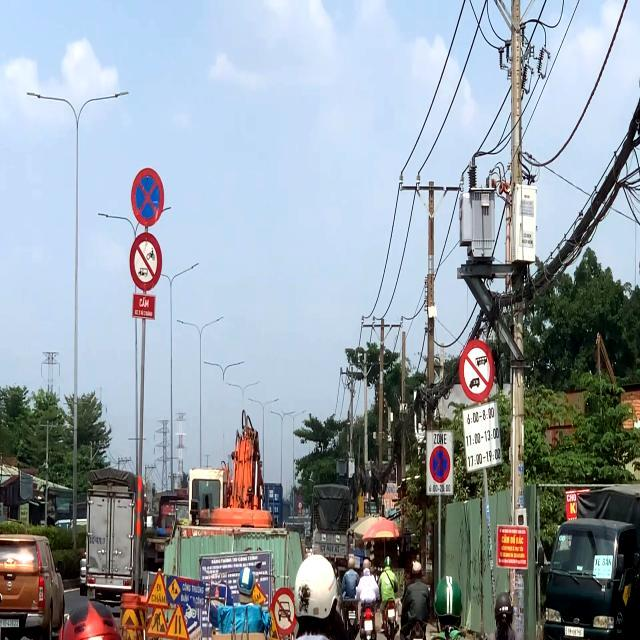Cam dung xe va do xe: (130, 167, 164, 227), (430, 446, 450, 483)
Cam xe oto: (270, 586, 298, 638)
Di cham: (145, 568, 171, 610)
